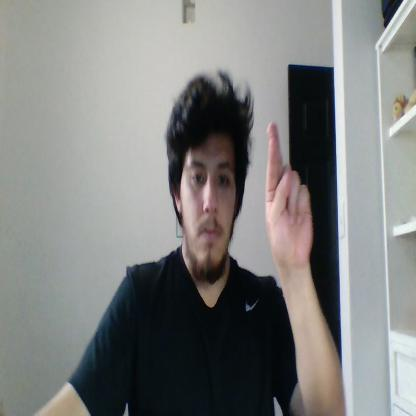R: (267, 120, 312, 265)
